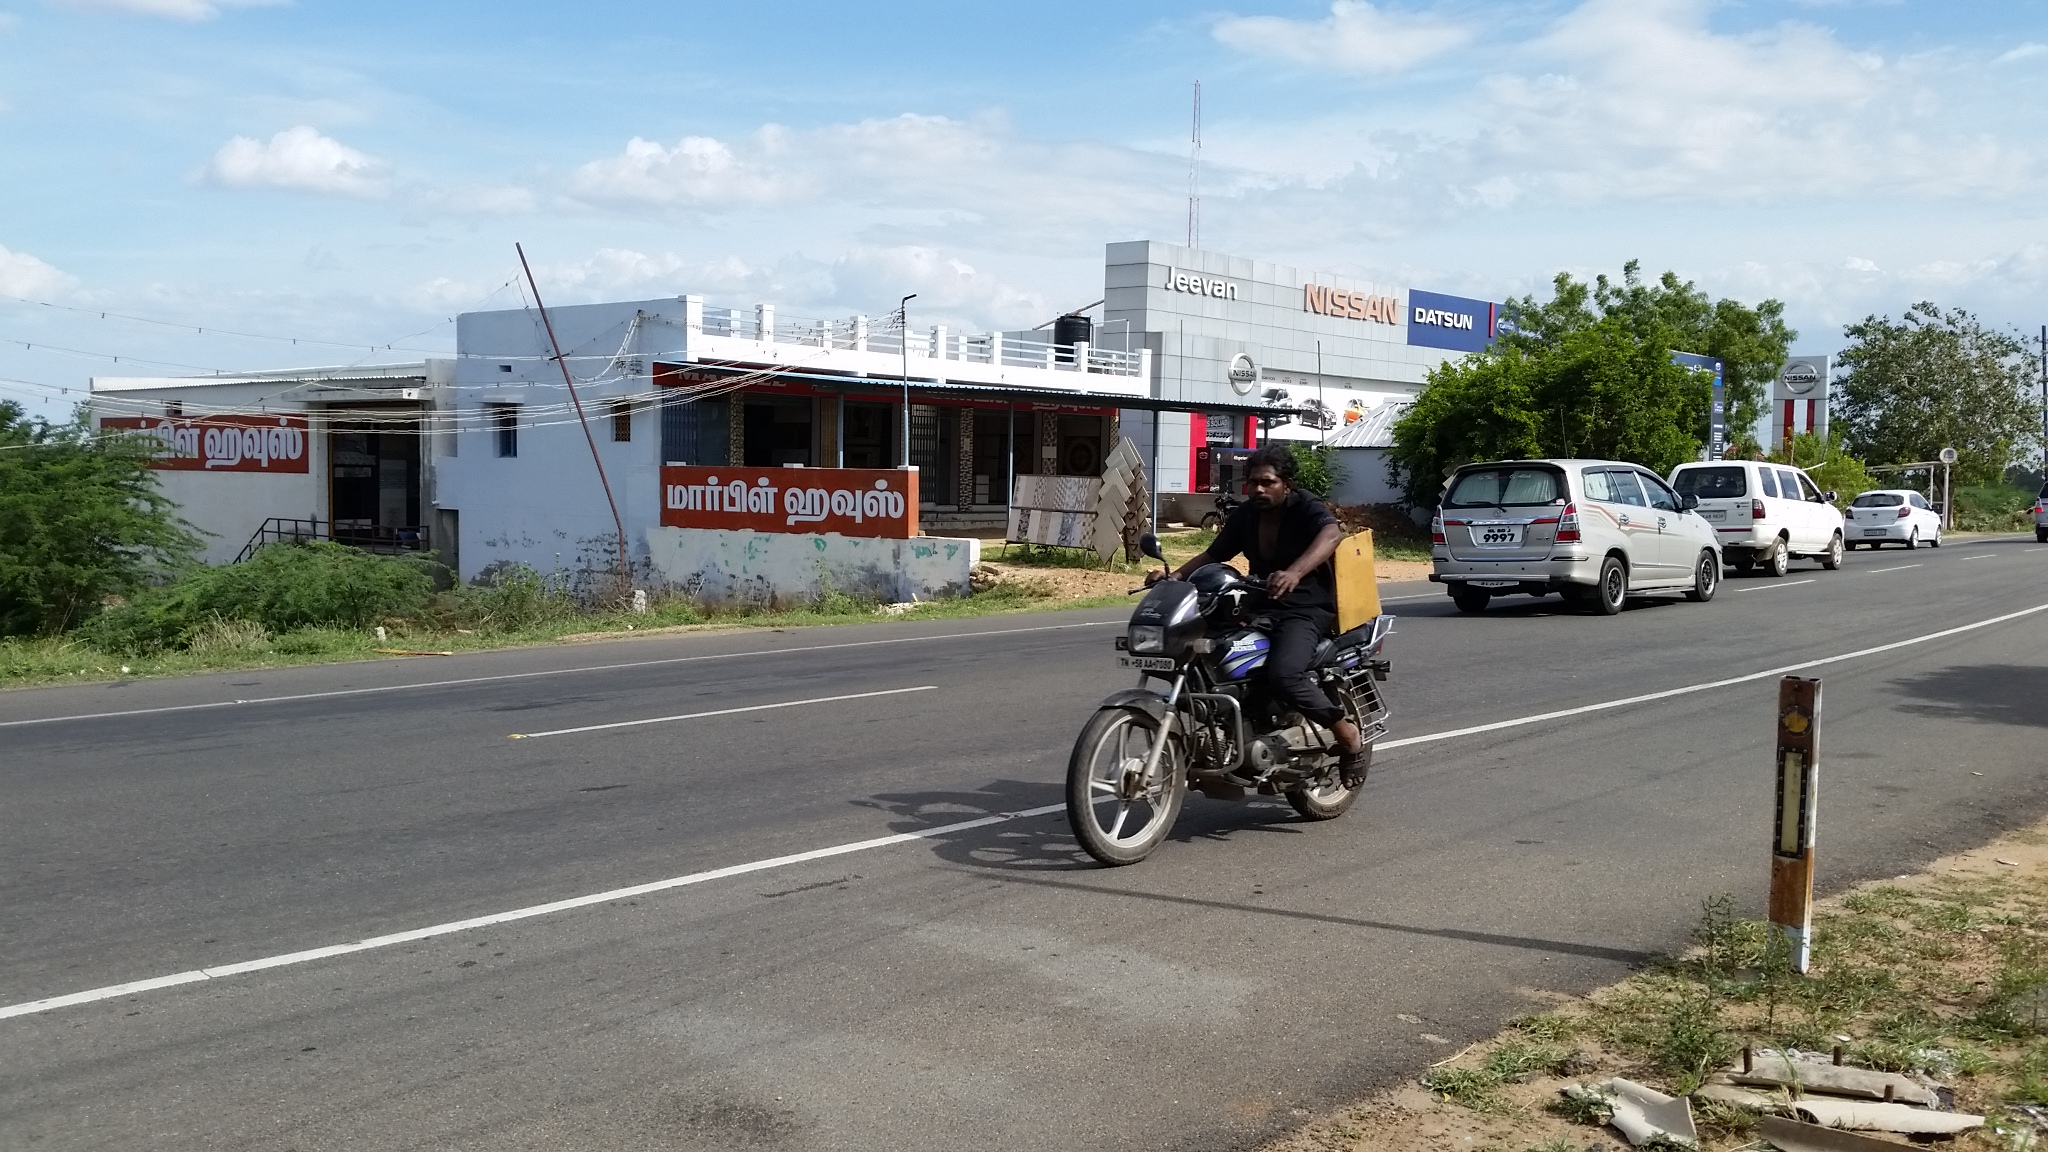biker: (1005, 372, 1439, 887)
nohelmet: (1222, 432, 1332, 527)
